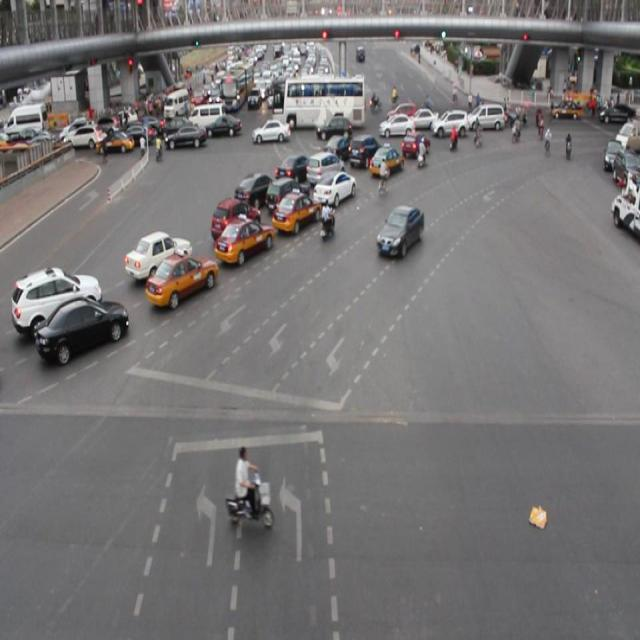car: (13, 264, 102, 325), (38, 297, 128, 351), (145, 253, 218, 300), (125, 231, 193, 275), (377, 204, 423, 257), (215, 217, 273, 259), (210, 196, 260, 242), (272, 191, 319, 227), (265, 176, 308, 213), (311, 171, 355, 205), (306, 151, 344, 186), (236, 172, 276, 204), (347, 132, 381, 168), (368, 142, 402, 174), (276, 153, 312, 182), (322, 133, 354, 162), (400, 128, 429, 159)
